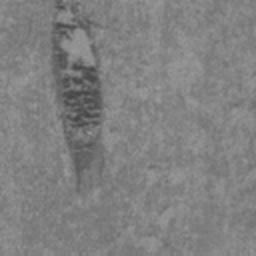Oxide scale of plate system: (47, 0, 106, 195)
